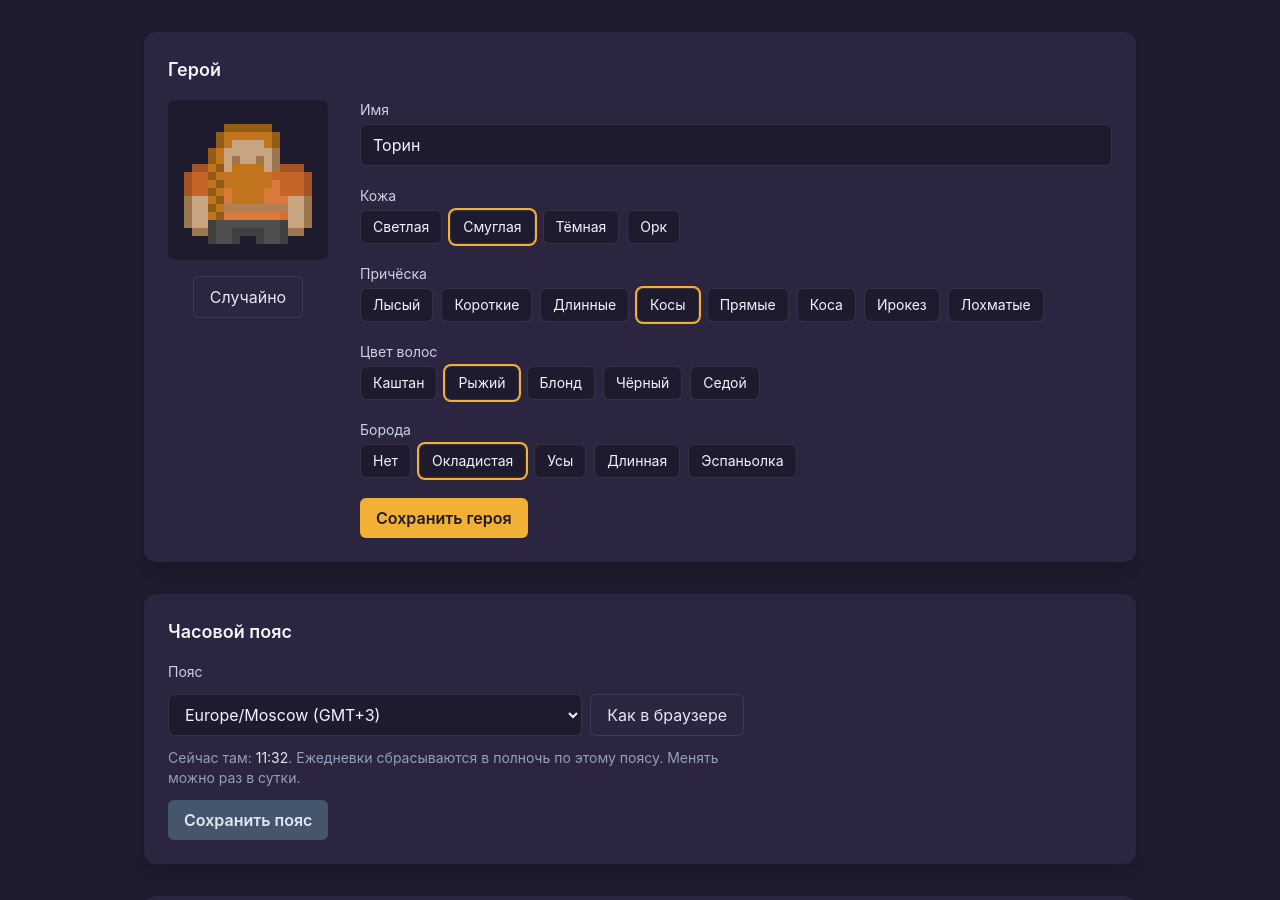
Test: ProfileView › drops the saved note once the hero is edited again
Submit the form that starts with "Случайно", box x1=168 y1=100 x2=1112 y2=538
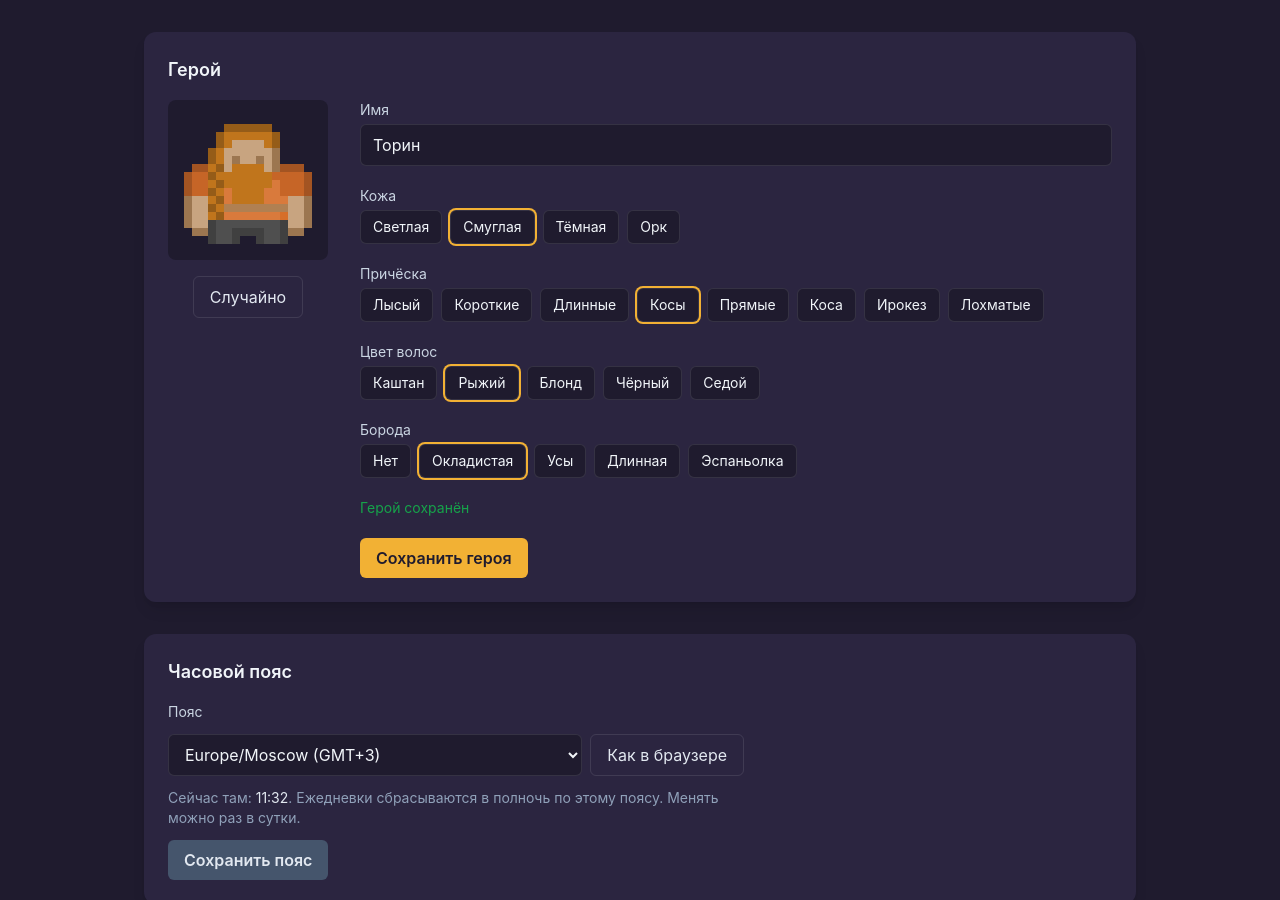
Now the text "Герой сохранён" is shown, box x1=360 y1=499 x2=469 y2=516
Click the radio button labelled "Ирокез" at (902, 305), box x1=864 y1=288 x2=940 y2=322
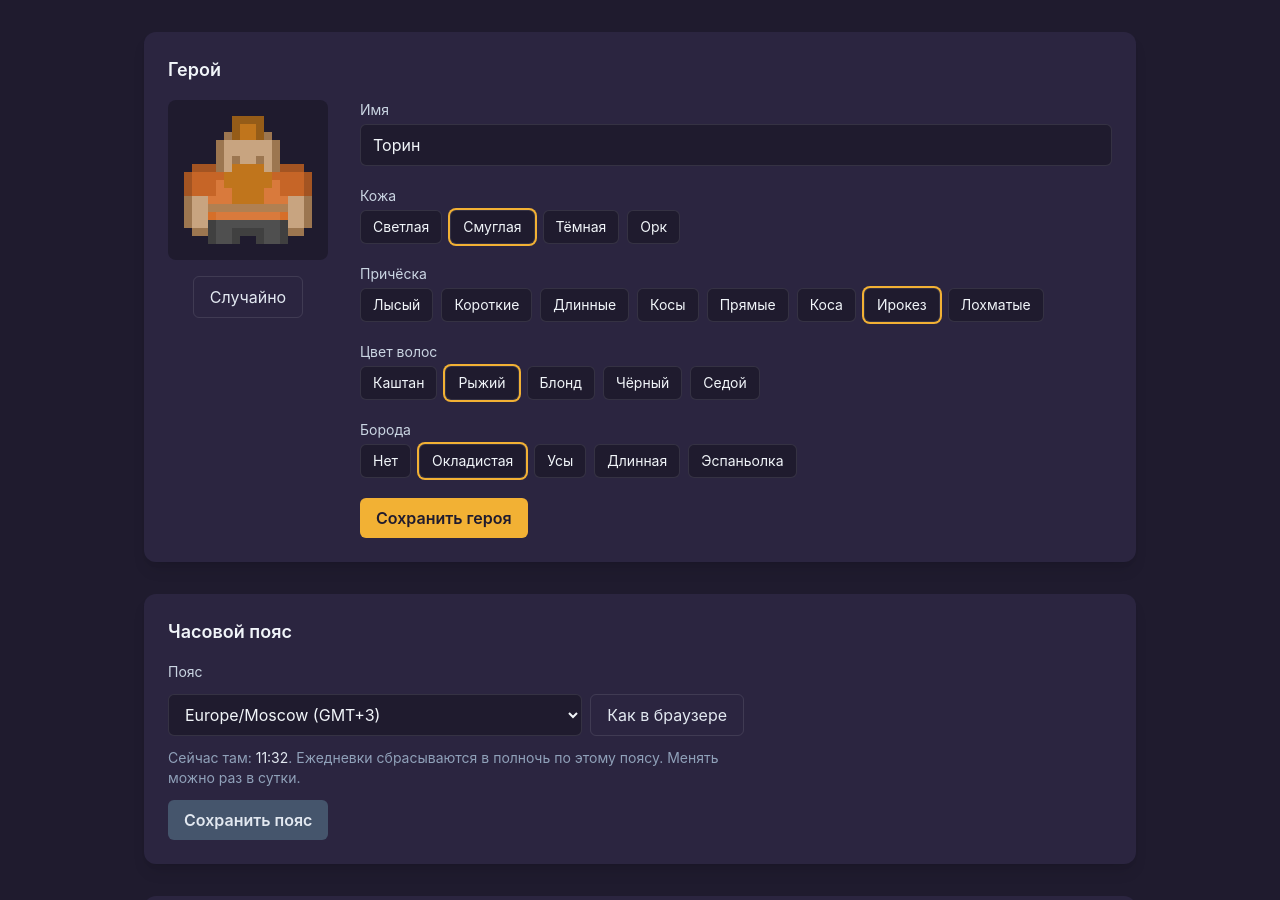
Now the text "Герой сохранён" is gone
